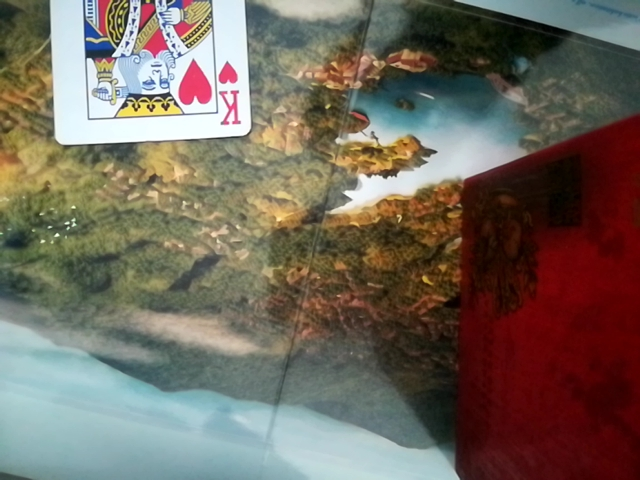hx k: (40, 0, 259, 147)
